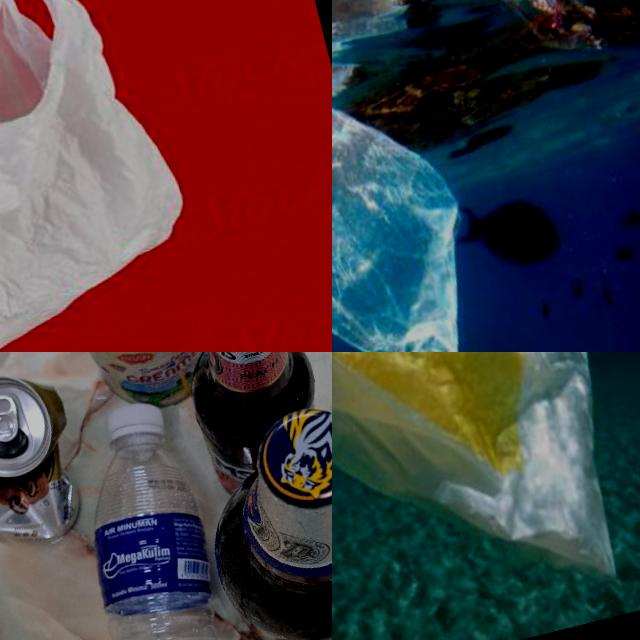aba de lata: (0, 391, 27, 448)
garrafa de vidro: (183, 393, 332, 640), (162, 352, 332, 499)
garrafa plástica: (36, 393, 259, 640)
lata: (0, 363, 95, 552), (44, 352, 224, 425)
sacola plástica: (332, 352, 640, 640), (0, 0, 215, 352), (332, 81, 501, 352)
tampa plástica: (104, 397, 168, 458)
